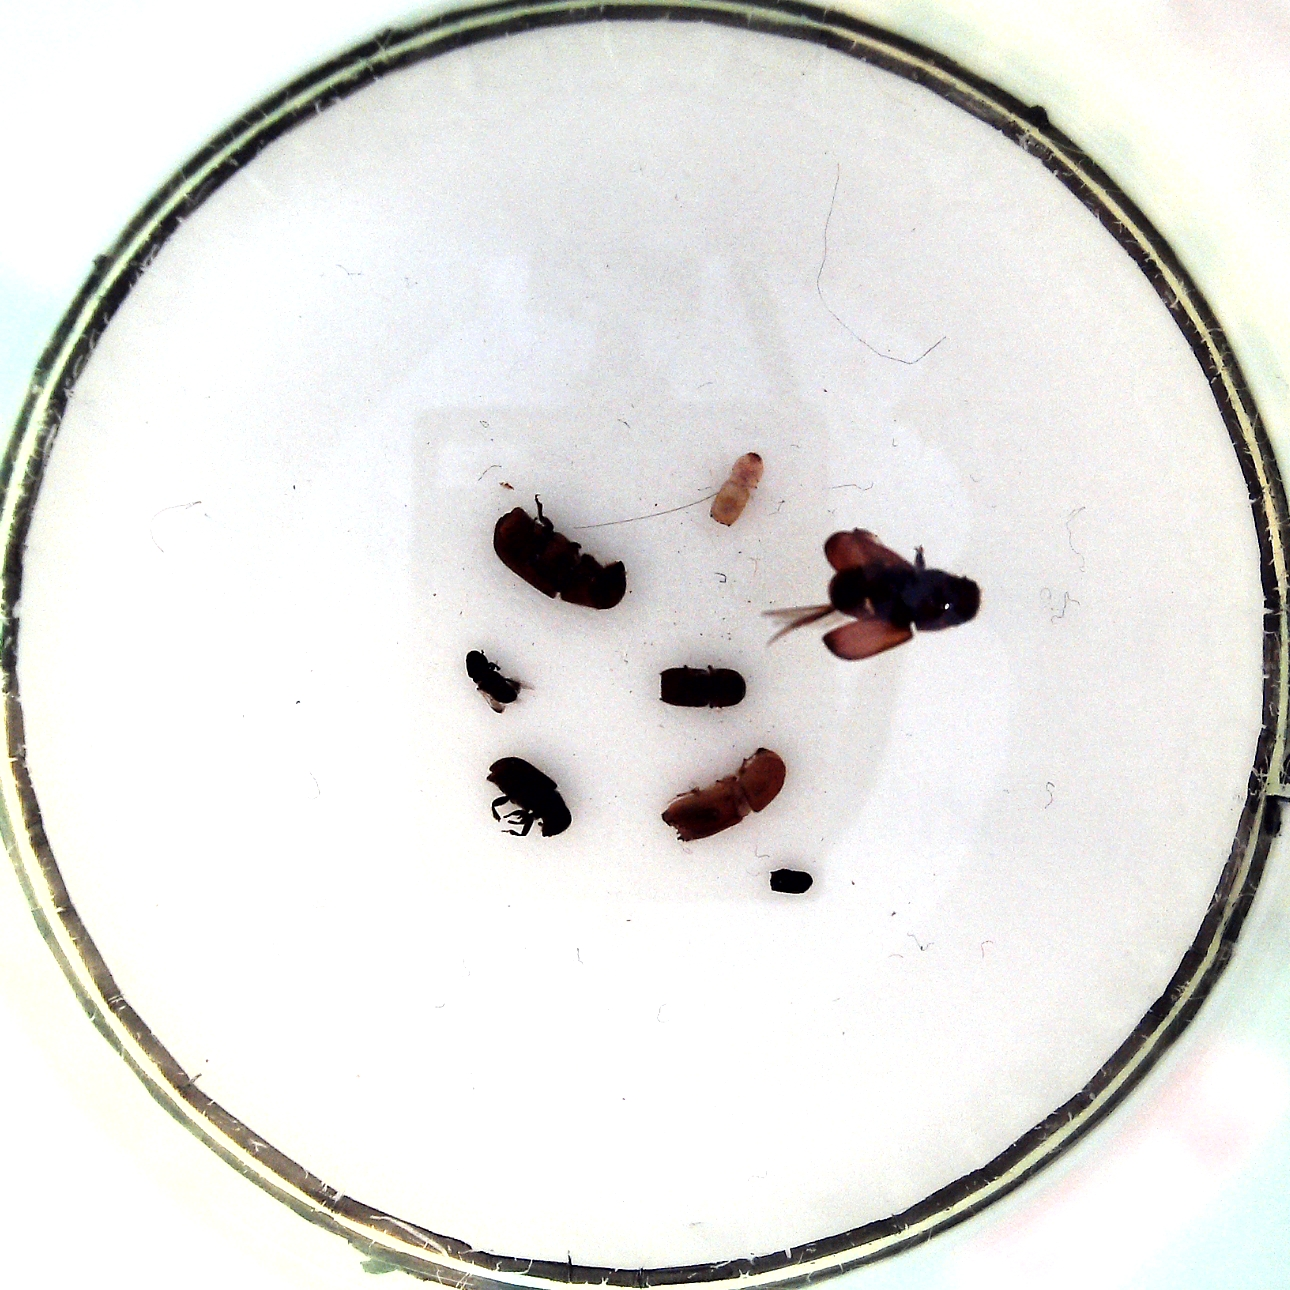Boerner: (654, 744, 786, 846)
Leconte: (765, 529, 983, 666), (491, 494, 630, 619)
Linnaeus: (656, 663, 749, 712)
acuminatus: (705, 451, 765, 529)
armandi: (480, 755, 576, 843)
coleoptera: (463, 646, 533, 715), (765, 864, 816, 901)
